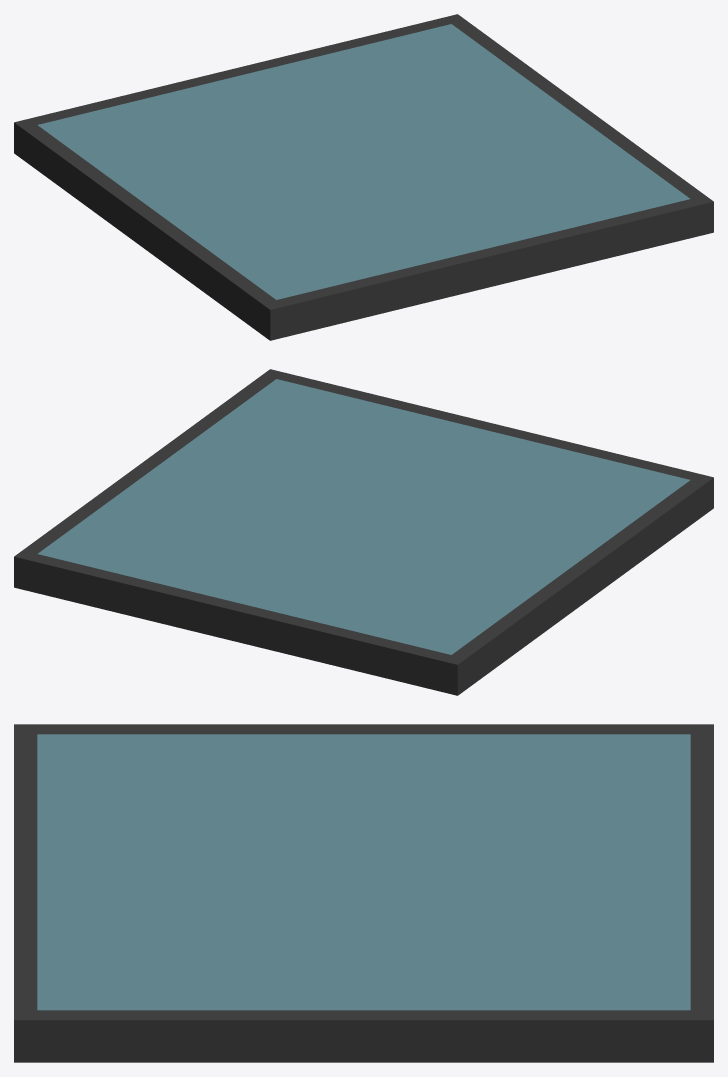
The model's file is FloorTile.obj.
3 views of the same model, one above another, from view 1: azimuth 30°, elevation 25°; view 2: azimuth 150°, elevation 25°; view 3: azimuth 270°, elevation 25° (orthographic). The views are drawn at different scales.
Parts seen in each view (by area): view 1: Box003, Box001; view 2: Box003, Box001; view 3: Box003, Box001.
Boxes of the visible parts, x1=… form: Box003: x1=38, y1=24, x2=689, y2=299; Box001: x1=14, y1=14, x2=713, y2=340; Box003: x1=38, y1=379, x2=689, y2=654; Box001: x1=14, y1=369, x2=713, y2=695; Box003: x1=37, y1=734, x2=690, y2=1010; Box001: x1=14, y1=724, x2=713, y2=1062.
Size of the model in its own units: 15 by 1 by 15.
